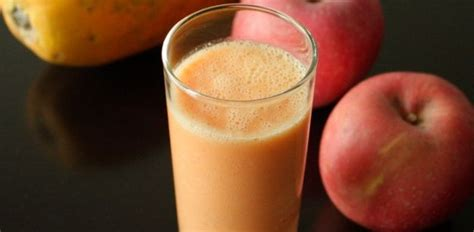apple: (317, 67, 474, 231)
